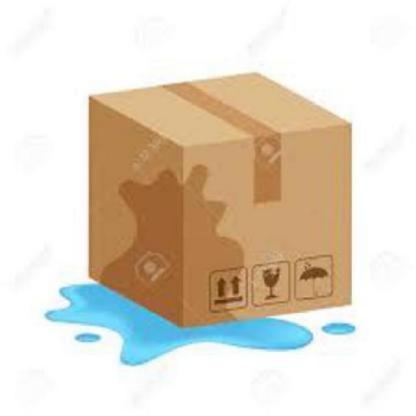box: (75, 71, 365, 335)
